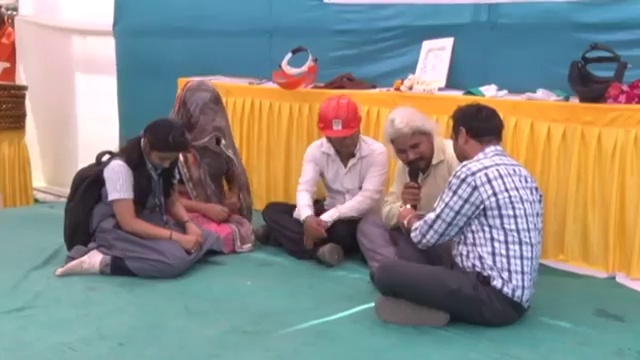helmet: (319, 94, 364, 138)
helmet_off: (444, 103, 509, 167), (385, 111, 444, 174), (134, 118, 191, 173), (175, 82, 226, 142)
helmet_on: (314, 99, 368, 157)
person: (357, 100, 542, 331), (55, 116, 210, 279), (252, 90, 396, 265), (160, 76, 256, 256), (359, 108, 467, 267)
